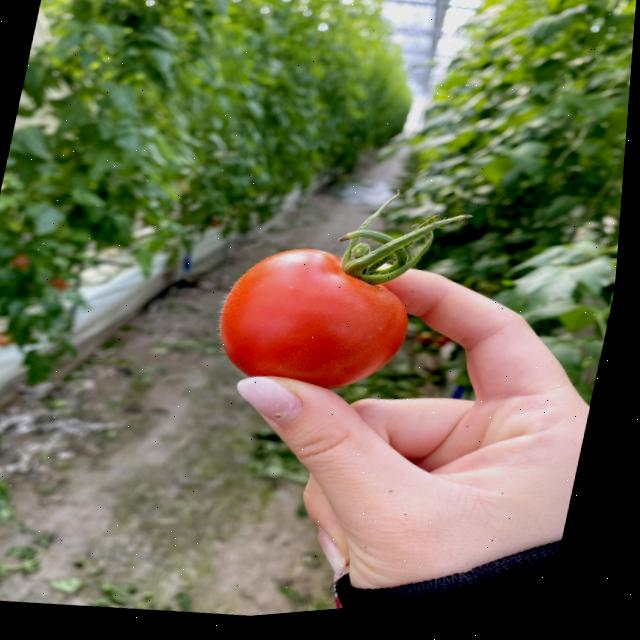ripe2: (207, 244, 423, 393)
